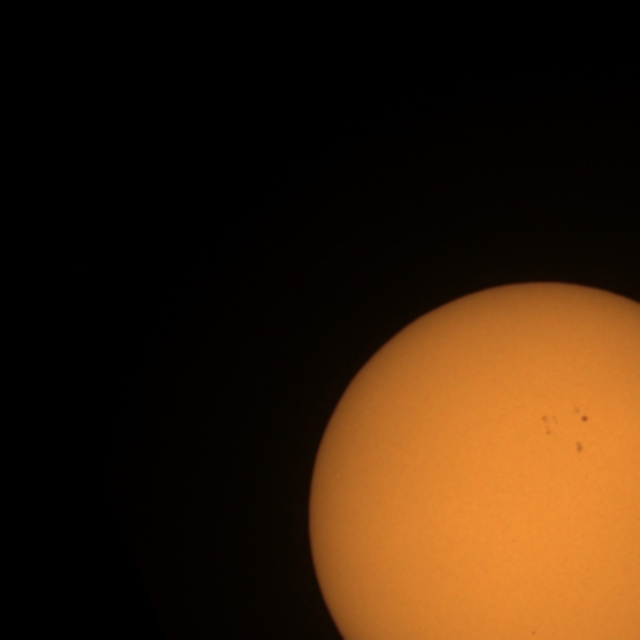sunspot: (540, 414, 559, 437), (574, 406, 590, 424), (574, 440, 584, 455), (530, 628, 538, 638)
